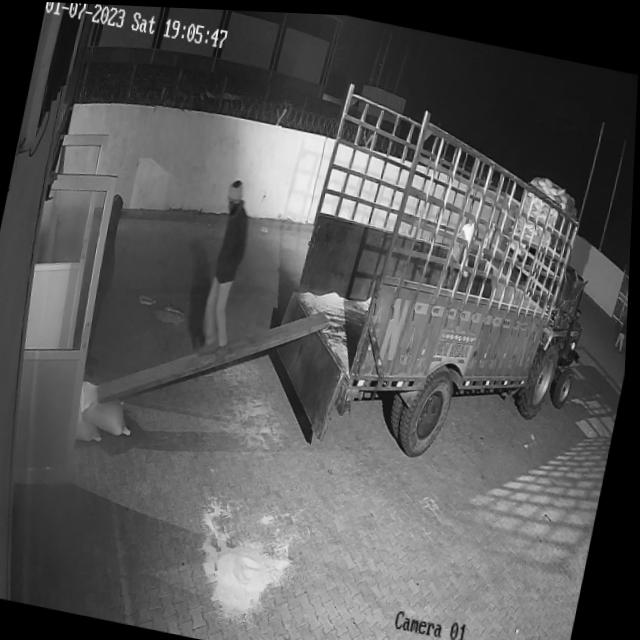sack: (77, 379, 142, 437)
